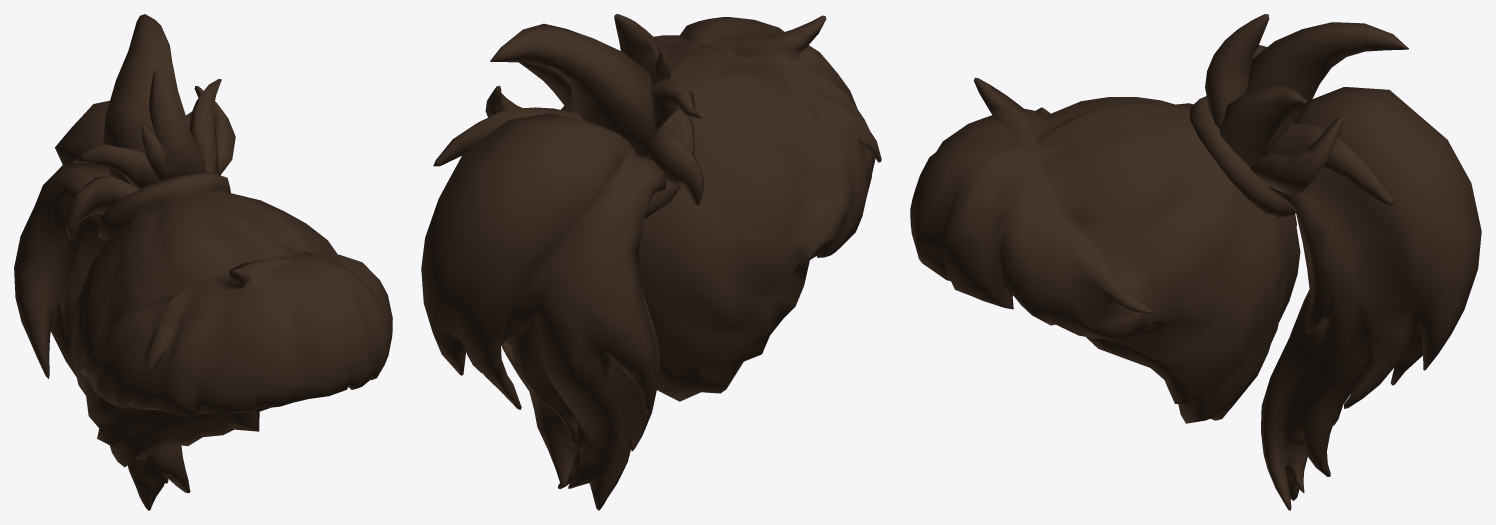
File: hair_w02.glb
3 views of the same model, side by side, from view 1: azimuth 30°, elevation 25°; view 2: azimuth 150°, elevation 25°; view 3: azimuth 270°, elevation 25° (orthographic). The views are drawn at different scales.
Parts seen in each view (by area): view 1: hair_w02; view 2: hair_w02; view 3: hair_w02.
Part boxes in pixels (x1,y1,x2,y2): hair_w02: [14, 14, 392, 510]; hair_w02: [421, 14, 881, 510]; hair_w02: [910, 14, 1481, 510].
Bounding box in the file's own units: 0.1838 × 0.2931 × 0.3076.
